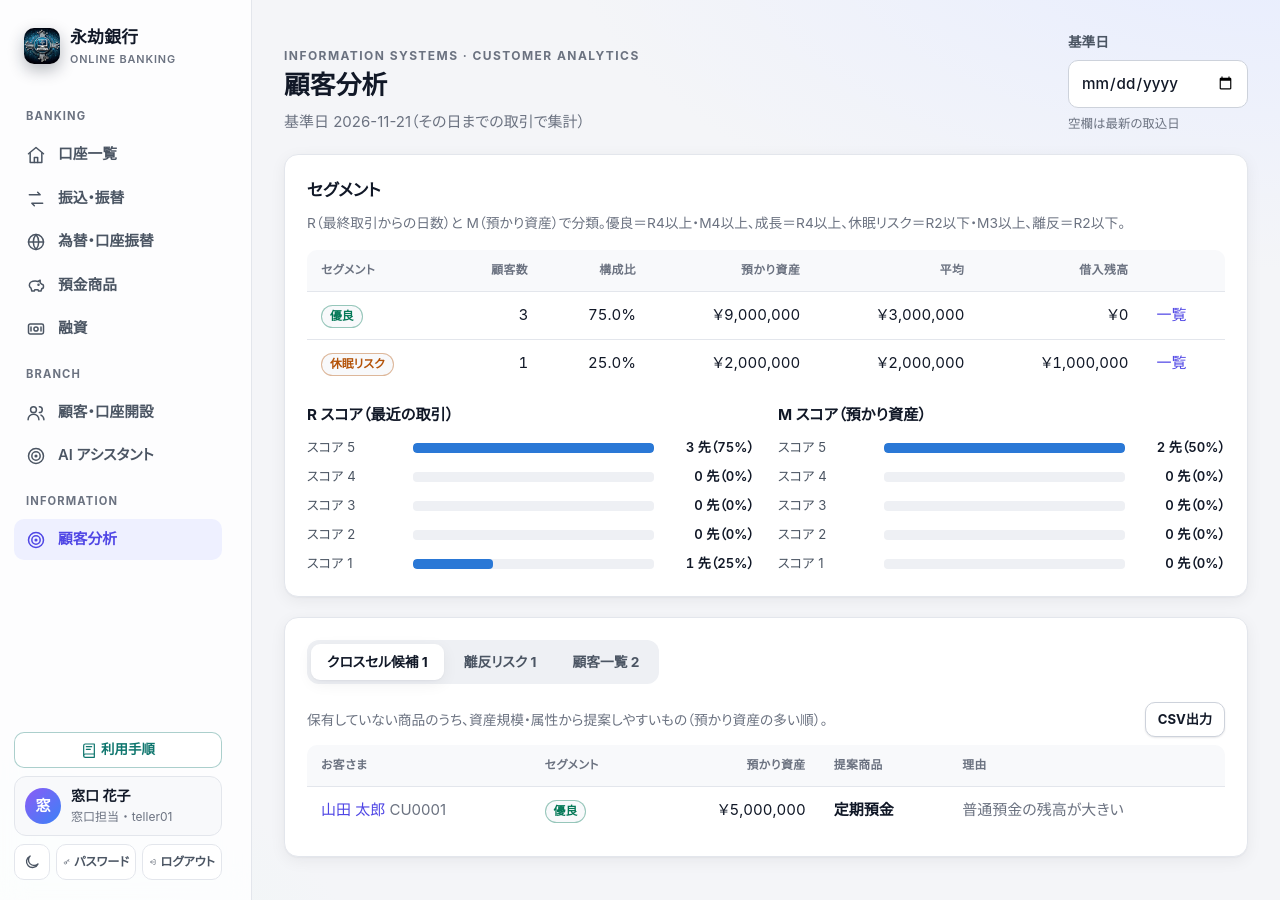
AnalyticsPage › タブでクロスセル候補・離反リスク・顧客一覧を切り替え、顧客詳細へリンクする
Expected: the text "定期預金" is shown, [834,800,894,820]
Click the tab "離反リスク 1" at x=500, y=662, box [448,644,552,680]
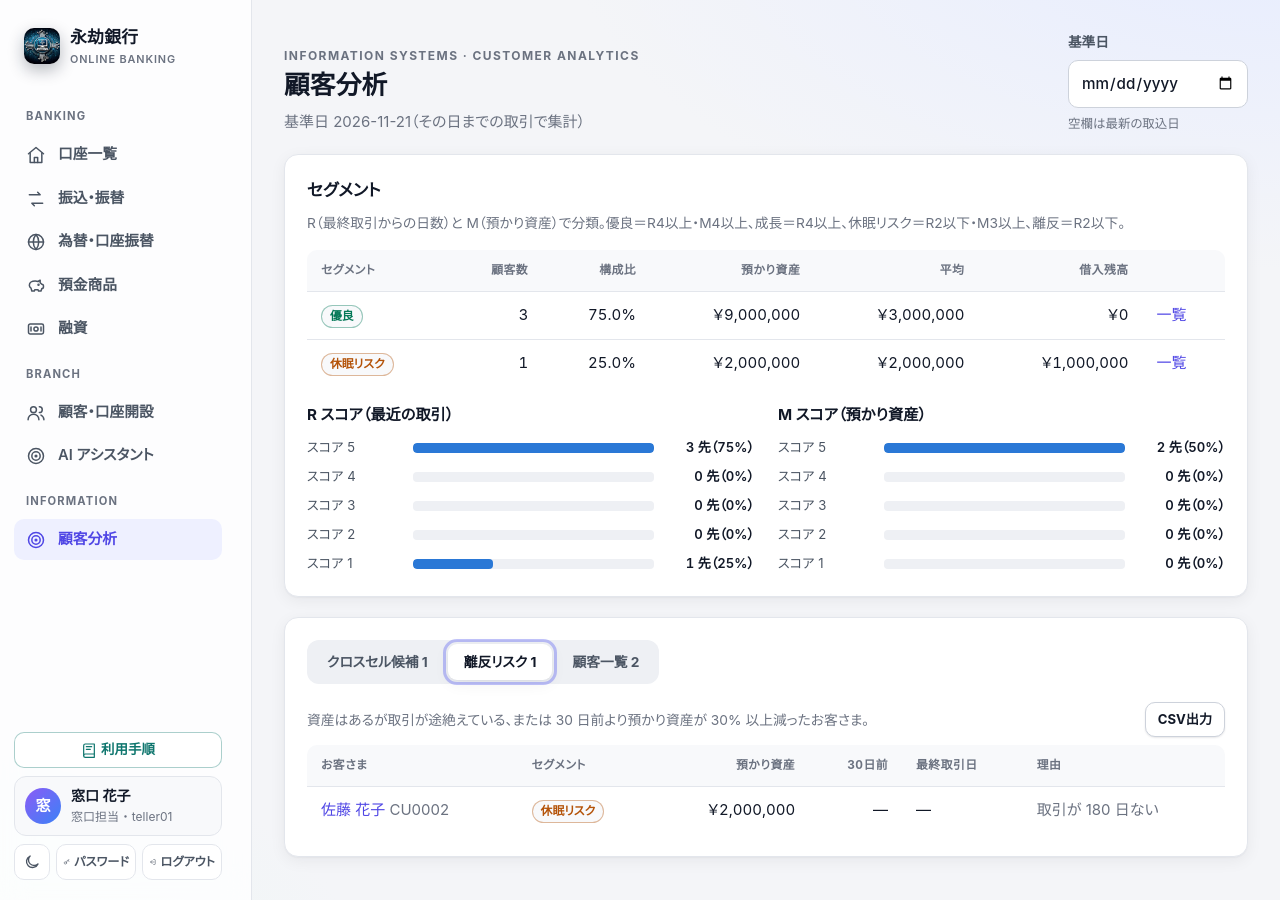
Result: the text "取引が 180 日ない" is shown at [1023,787,1225,834]
Click the tab "顧客一覧 2" at x=606, y=662, box [556,644,655,680]
(page scrolled)
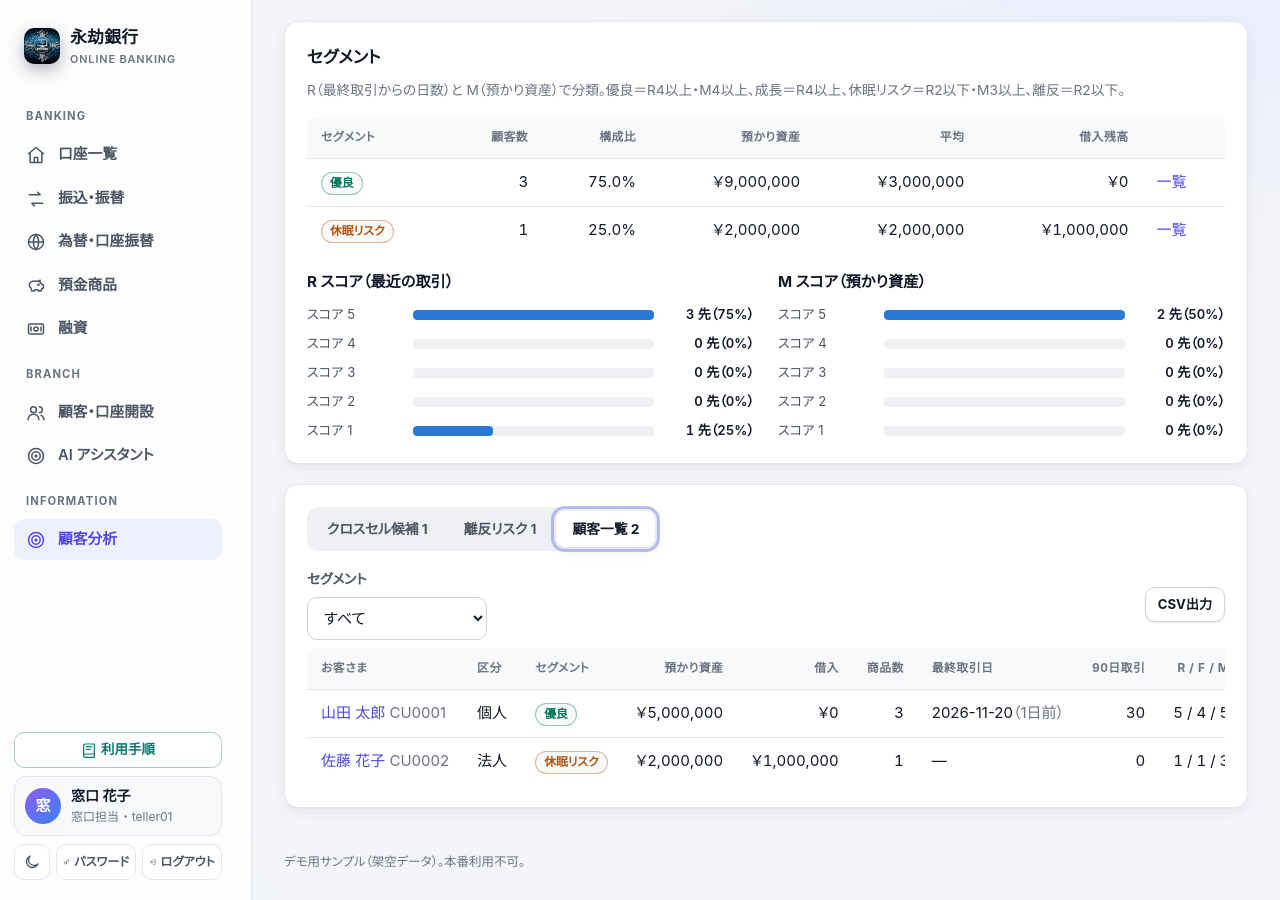
Result: the text "5 / 4 / 5" is shown at [1159,690,1225,738]
Result: the text "（1日前）" is shown at [1013,703,1064,722]
Result: the text "法人" is shown at [463,738,521,785]
